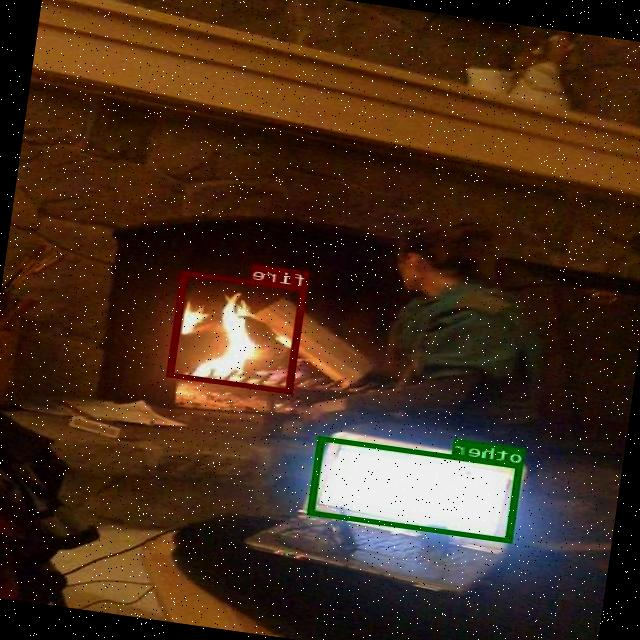fire: (168, 270, 308, 394)
